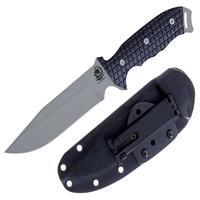knife: (2, 11, 187, 160)
